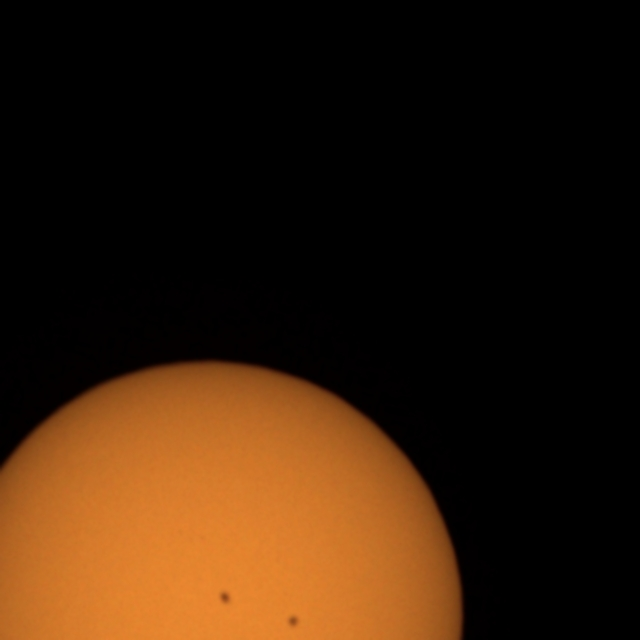sunspot: (285, 613, 302, 631), (217, 589, 233, 608)
